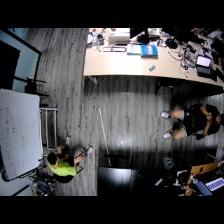normal: (160, 105, 224, 142), (46, 135, 93, 183)
